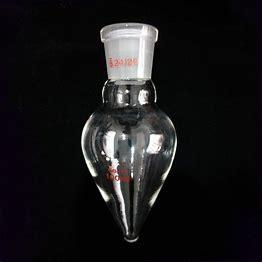Pear shaped flask: (74, 12, 179, 239)
